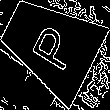P_NW: (22, 16, 78, 73)
